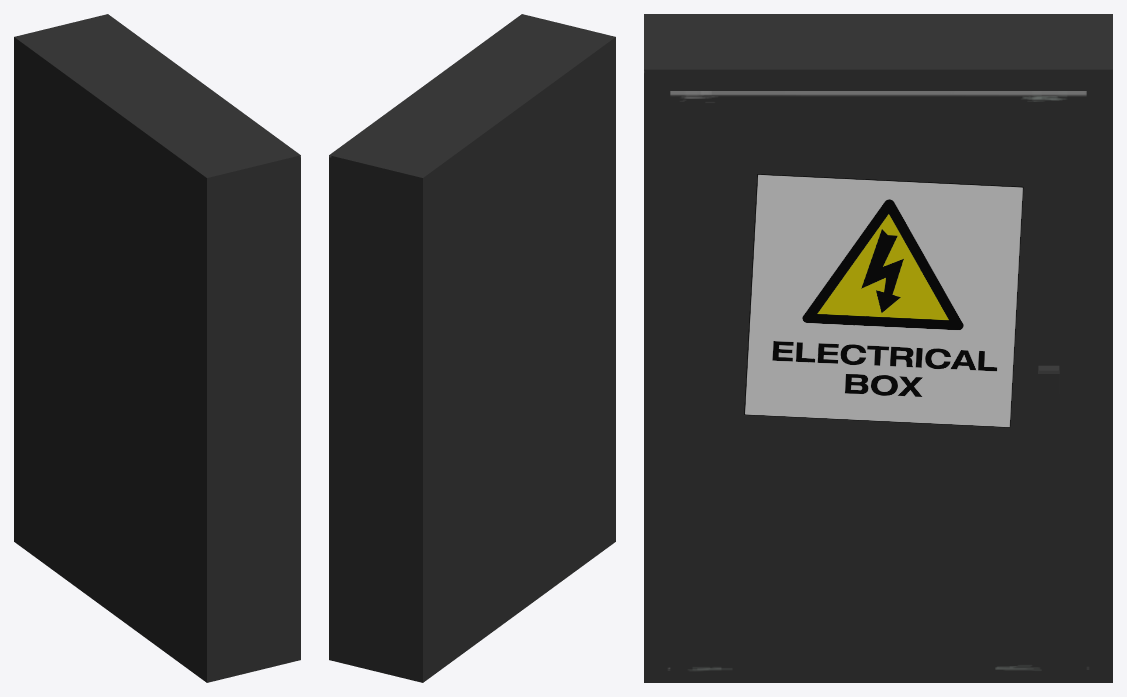
The model's file is TestElectBoxewL.fbx.
The picture shows the model from 3 angles, left to right: view 1: azimuth 30°, elevation 25°; view 2: azimuth 150°, elevation 25°; view 3: azimuth 270°, elevation 25°; orthographic projection. The views are drawn at different scales.
Visible parts, largest first — view 1: Cube; view 2: Cube; view 3: Cube, Plane.
Part boxes in pixels (left/top/right/bottom): Cube: left=14, top=14, right=300, bottom=682; Cube: left=329, top=14, right=615, bottom=682; Cube: left=644, top=14, right=1112, bottom=682; Plane: left=744, top=174, right=1023, bottom=427.
Size of the model in its own units: 61.42 by 289 by 200.
Materials: 2 (2 with a texture image).
